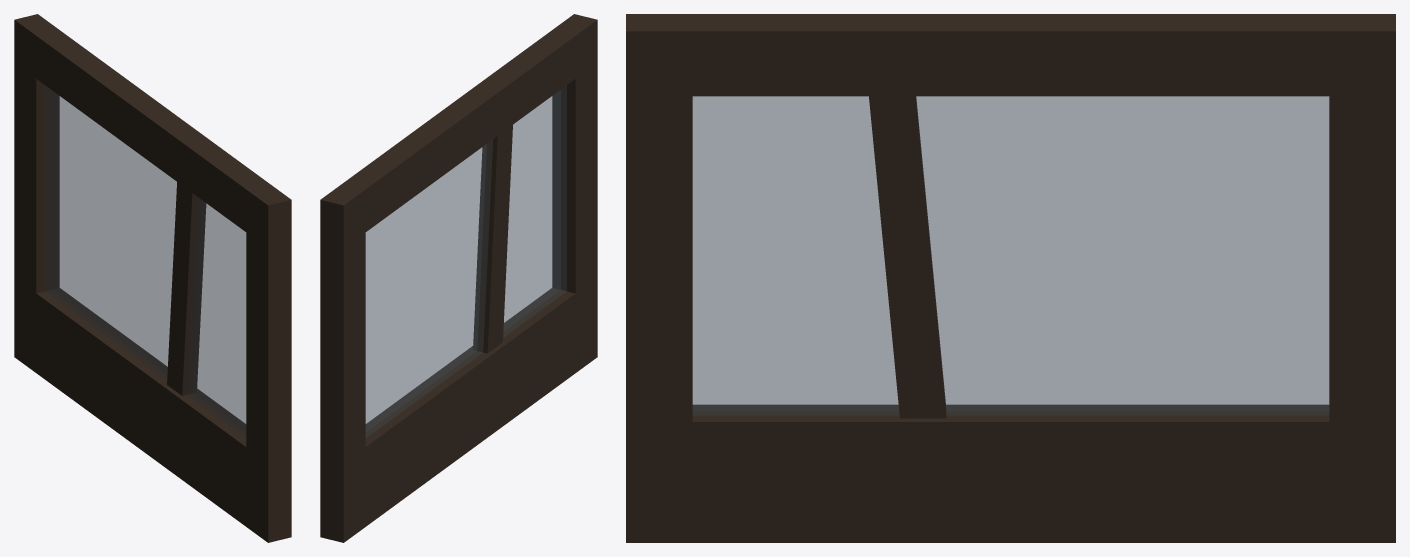
Rendered from window_panel.glb.
The picture shows the model from 3 angles, left to right: view 1: azimuth 30°, elevation 25°; view 2: azimuth 150°, elevation 25°; view 3: azimuth 270°, elevation 25°; orthographic projection. The views are drawn at different scales.
Visible parts, largest first — view 1: Frame, Glass; view 2: Frame, Glass; view 3: Frame, Glass.
Part boxes in pixels (x1,y1,x2,y2): Frame: (14, 14, 291, 542); Glass: (45, 85, 246, 437); Frame: (320, 14, 597, 542); Glass: (365, 85, 566, 437); Frame: (626, 14, 1395, 542); Glass: (692, 96, 1329, 415).
Size of the model in its own units: 0.08 by 1.1 by 1.5.
